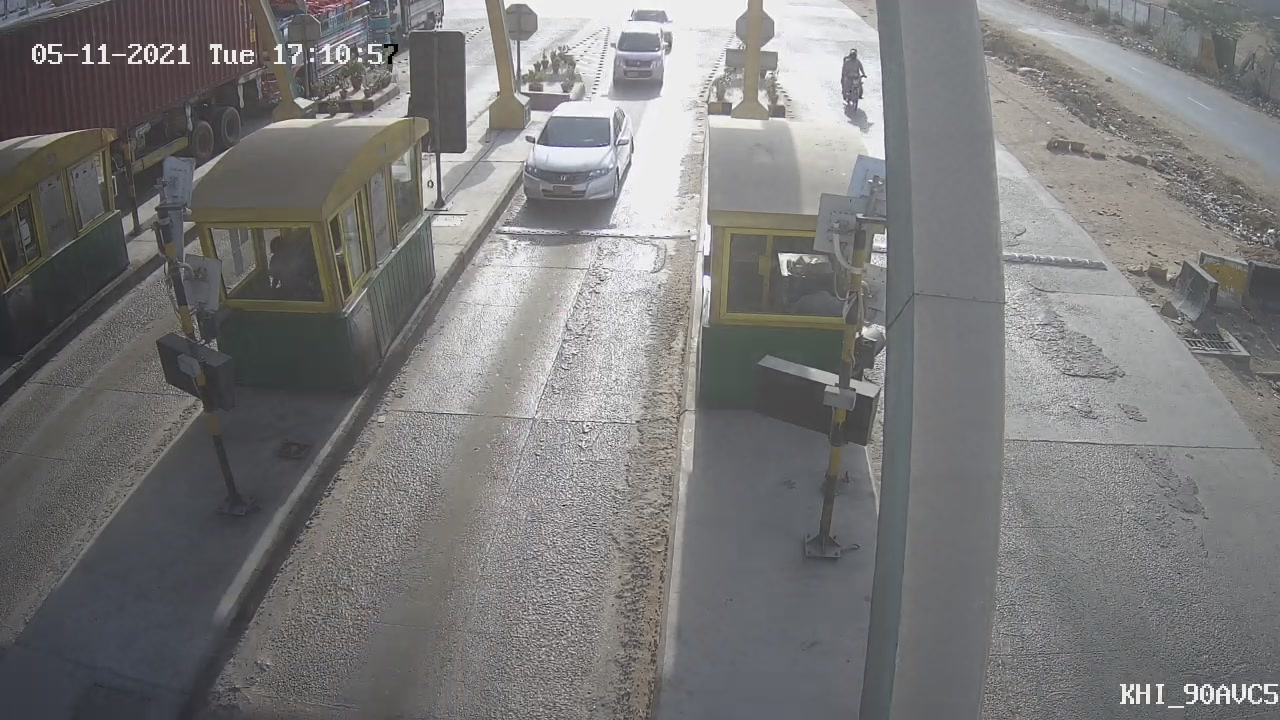F1: (504, 87, 652, 218)
